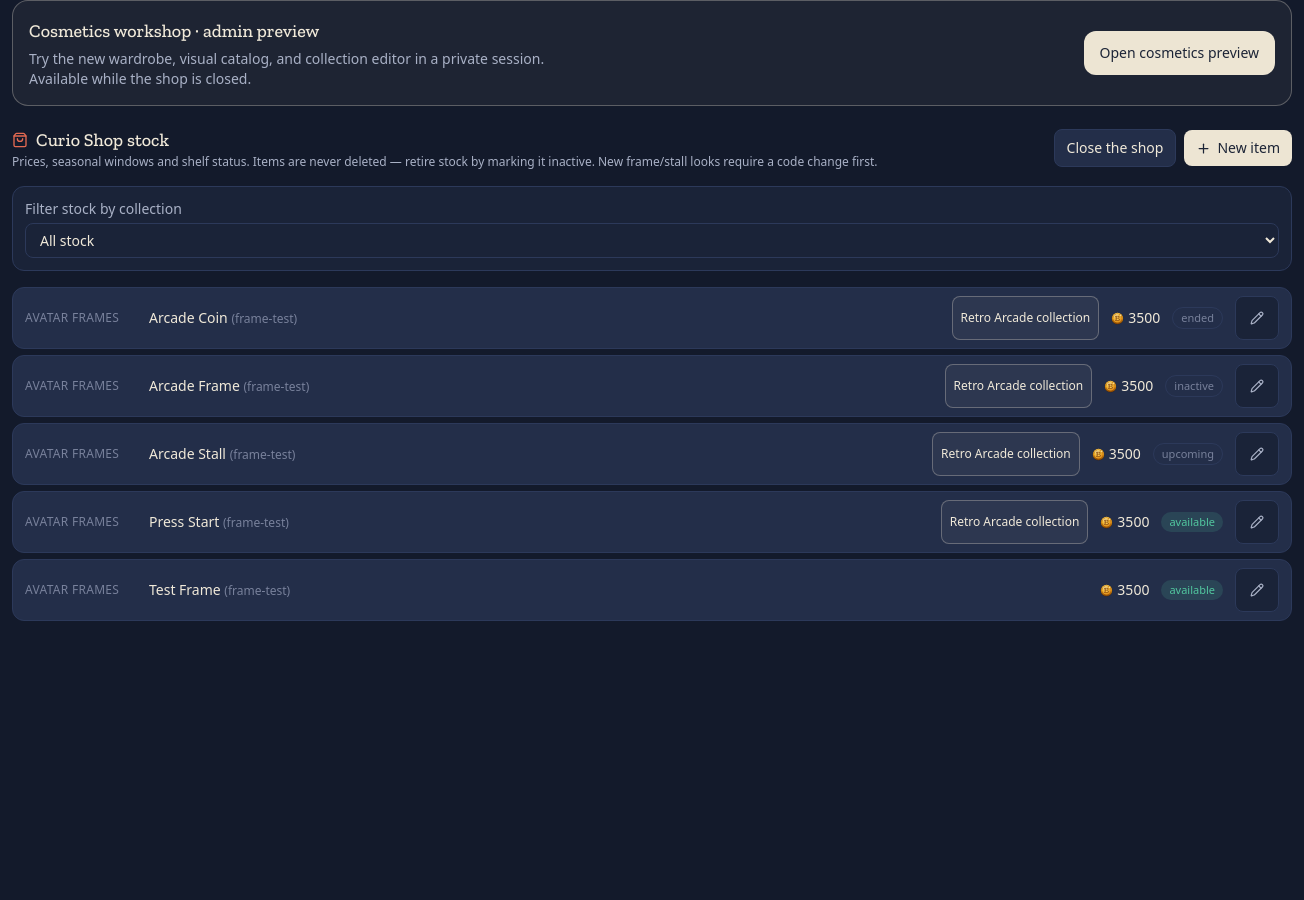
Test: stock editor navigation › groups collection pieces and reports their actual availability without changing stock
Click the button "Retro Arcade collection" in the row of "ended" at (1025, 318), box [952, 296, 1099, 340]
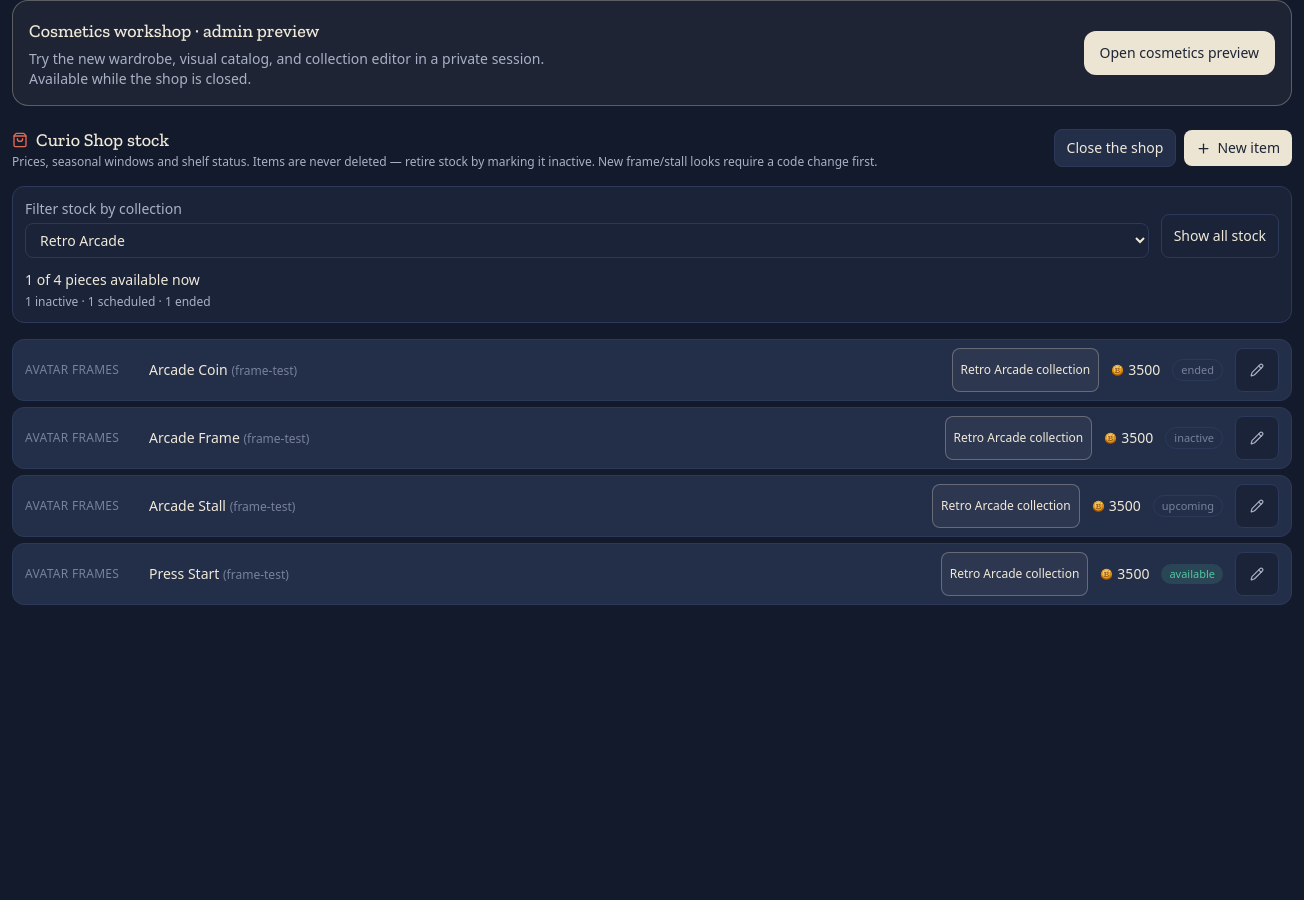
Now the message shows "1 of 4 pieces available now", box [25, 270, 211, 310]
Now the message shows "1 inactive · 1 scheduled · 1 ended", box [25, 270, 211, 310]
Now the text "Test Frame" is gone
Click the button "Show all stock" at (1220, 236), box [1161, 214, 1279, 258]
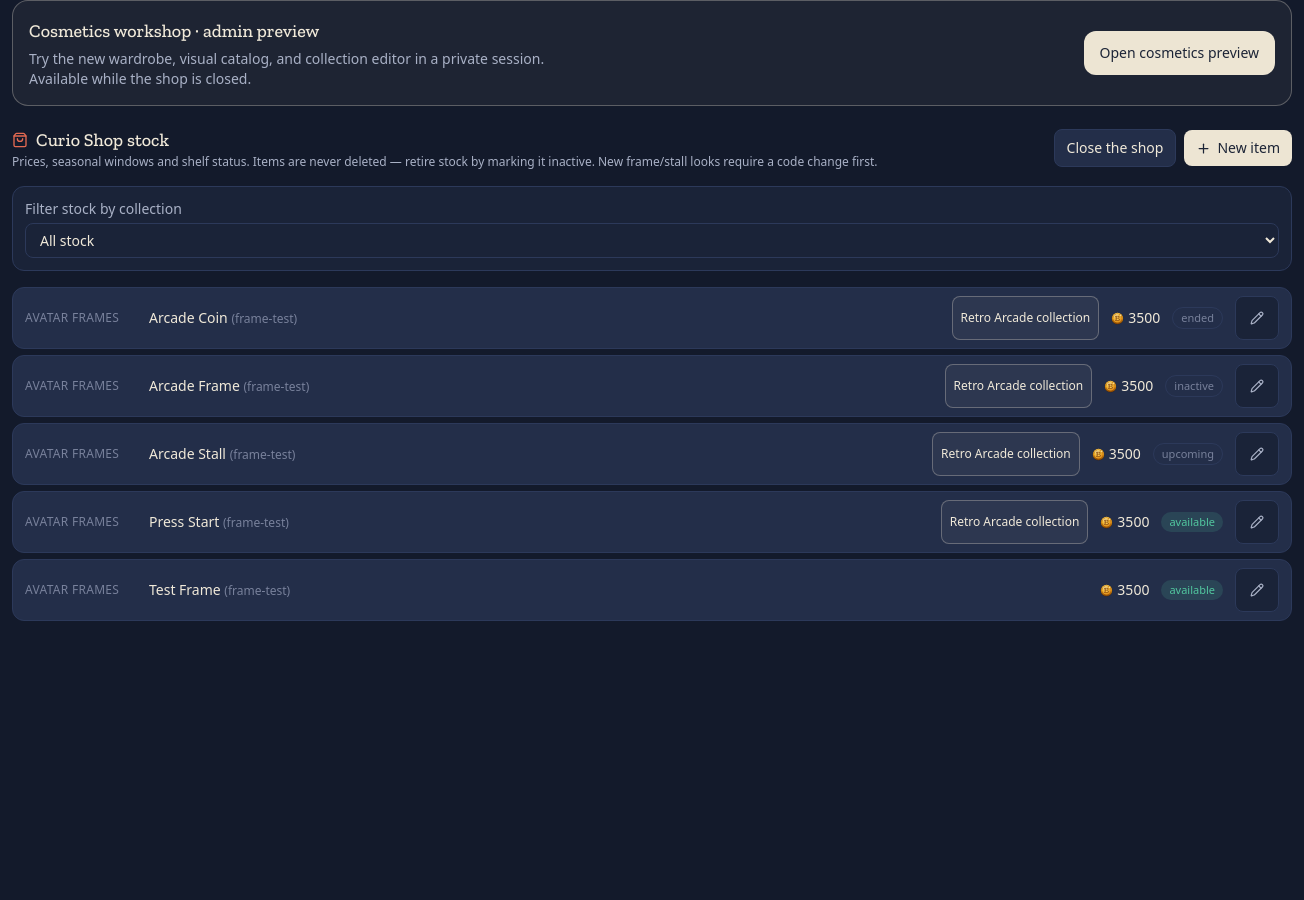
Now the number of buttons titled "Edit" is 5, box [1235, 296, 1279, 340]; [1235, 364, 1279, 408]; [1235, 432, 1279, 476]; [1235, 500, 1279, 544]; [1235, 568, 1279, 612]
